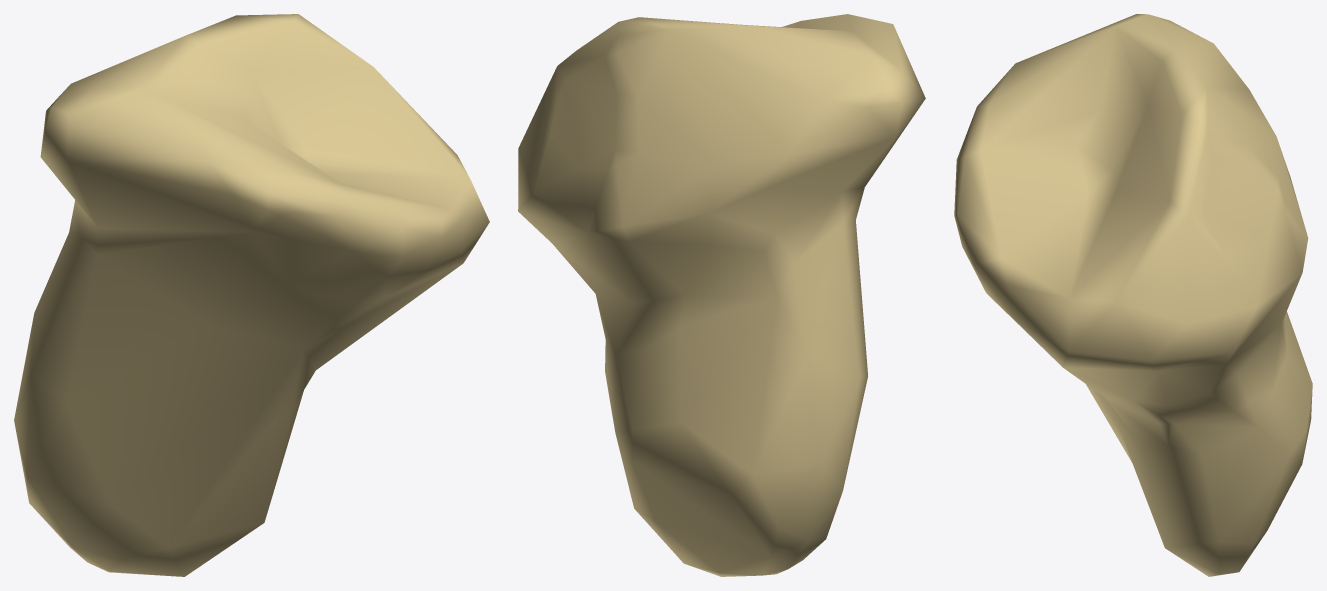
3 renders of one model, left to right at view 1: azimuth 30°, elevation 25°; view 2: azimuth 150°, elevation 25°; view 3: azimuth 270°, elevation 25°, orthographic. The views are drawn at different scales.
Visible parts, largest first — view 1: 右侧第四趾远节趾骨; view 2: 右侧第四趾远节趾骨; view 3: 右侧第四趾远节趾骨.
Part boxes in pixels (x1,y1,x2,y2): 右侧第四趾远节趾骨: [14, 14, 489, 576]; 右侧第四趾远节趾骨: [518, 14, 925, 576]; 右侧第四趾远节趾骨: [954, 14, 1312, 576].
Size of the model in its own units: 0.013 by 0.0172 by 0.0108.
